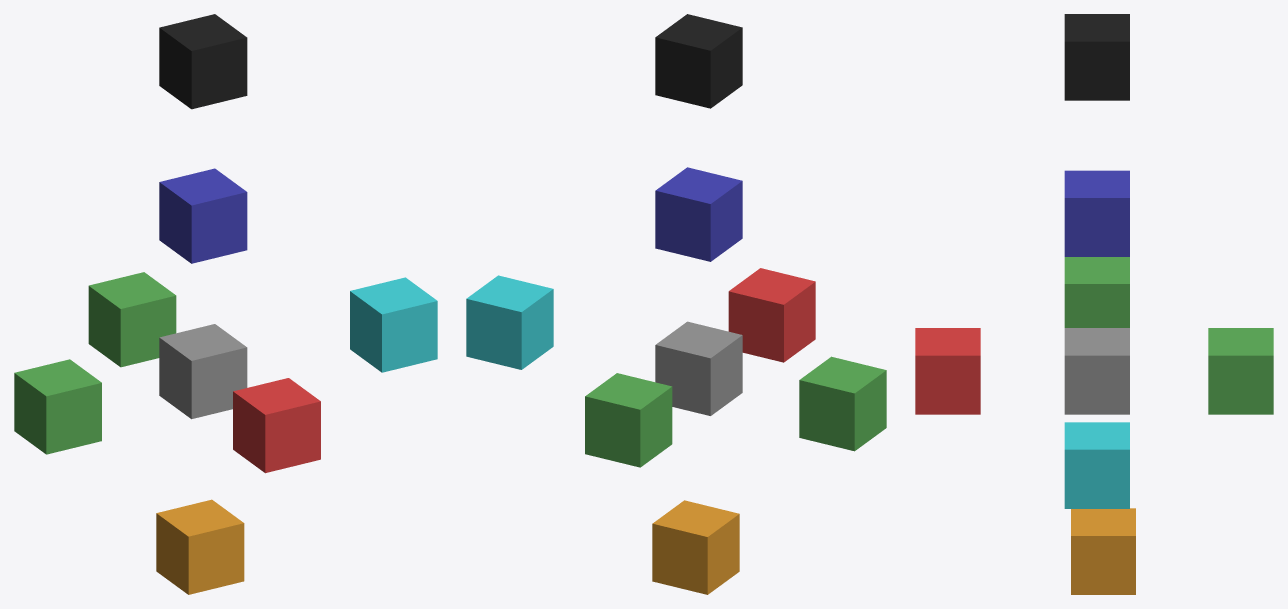
The model's file is caja1.gltf.
3 views of the same model, side by side, from view 1: azimuth 30°, elevation 25°; view 2: azimuth 150°, elevation 25°; view 3: azimuth 270°, elevation 25° (orthographic). The views are drawn at different scales.
Visible parts, largest first — view 1: Box__6, Box__3, Box__2, Box__4, Box__5, Box__1, Box__8, Box__7; view 2: Box__3, Box__6, Box__2, Box__7, Box__5, Box__4, Box__1, Box__8; view 3: Box__1, Box__5, Box__6, Box__7, Box__8, Box__3, Box__2, Box__4.
Boxes of the visible parts, x1,y1,x2,y2 form: Box__6: (159, 14, 247, 109); Box__3: (159, 168, 247, 263); Box__2: (156, 499, 244, 594); Box__4: (14, 359, 101, 454); Box__5: (350, 277, 437, 372); Box__1: (233, 378, 320, 473); Box__8: (159, 324, 247, 419); Box__7: (88, 272, 176, 367); Box__3: (655, 167, 742, 261); Box__6: (655, 14, 742, 108); Box__2: (652, 500, 739, 594); Box__7: (585, 373, 672, 467); Box__5: (466, 275, 553, 369); Box__4: (799, 356, 886, 451); Box__1: (728, 268, 815, 362); Box__8: (655, 321, 742, 415); Box__1: (915, 328, 980, 414); Box__5: (1064, 422, 1129, 508); Box__6: (1064, 14, 1129, 100); Box__7: (1208, 328, 1273, 414); Box__8: (1064, 328, 1129, 414); Box__3: (1064, 170, 1129, 256); Box__2: (1071, 508, 1135, 594); Box__4: (1064, 257, 1129, 327).
Size of the model in its own units: 234 by 312 by 183.
